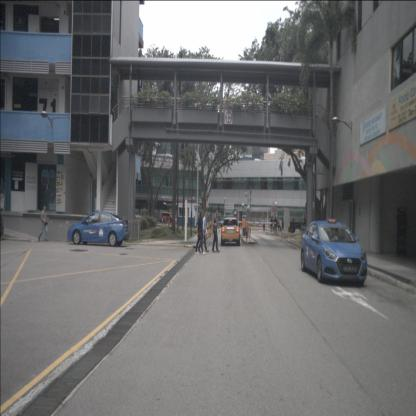human-pedestrian-adult: (198, 211, 210, 253), (195, 210, 206, 255), (38, 204, 49, 242), (212, 207, 220, 254), (270, 216, 273, 232), (274, 216, 277, 231), (277, 217, 280, 232), (263, 218, 265, 232), (280, 218, 282, 231)
movable_object-trafficcone: (282, 229, 286, 242), (281, 230, 283, 241)
vehicle-car: (301, 221, 367, 288), (67, 212, 129, 247), (271, 196, 325, 233), (221, 218, 240, 247), (160, 212, 175, 223)
